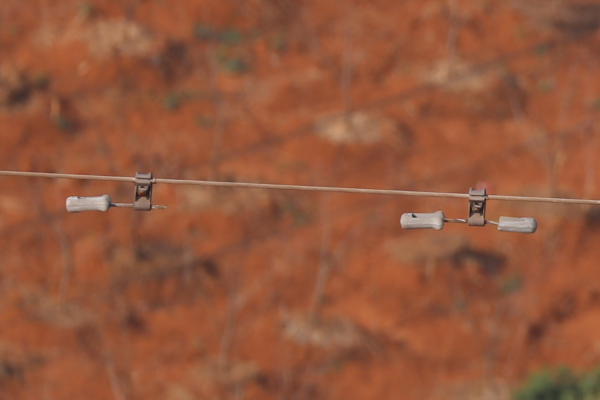damper: (391, 180, 541, 240)
damper_defect: (59, 168, 170, 214)
